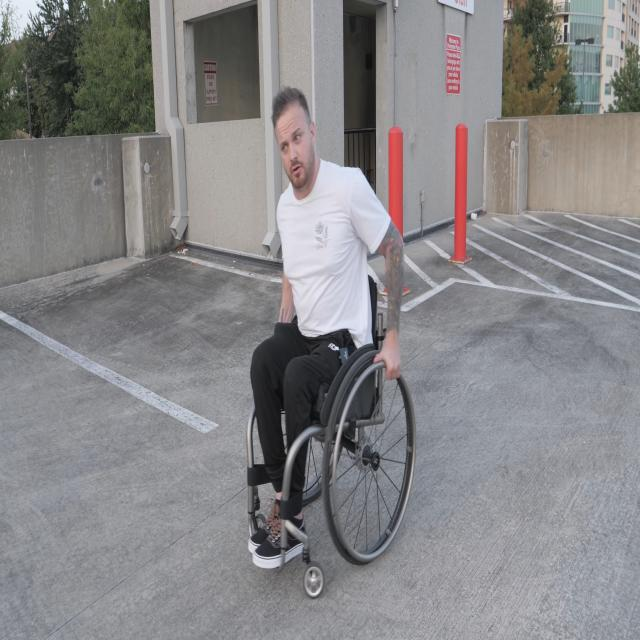wheelchairs: (244, 262, 416, 599)
